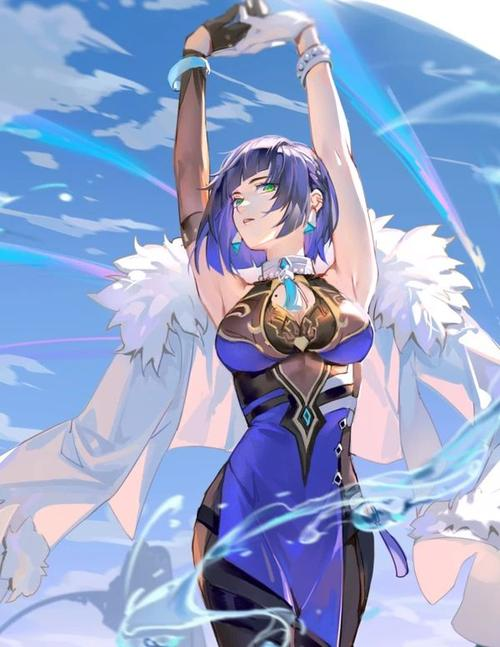夜兰: (173, 3, 380, 647)
